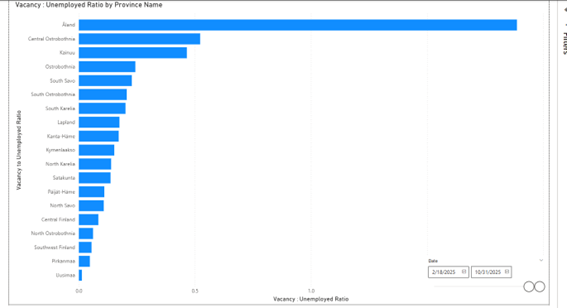

What the dashboard file says about the page in this screenshot:
{"tool":"powerbi","page":{"name":"Page 2","canvas":[1280,720],"ordinal":1},"visuals":[{"type":"clusteredBarChart","fields":{"Category":["KEHA_FACT.Province Name"],"Y":["KEHA_FACT.Vacancy : Unemployed Ratio"]},"box":[9.8,0,1269.9,720.2],"z":0},{"type":"slicer","fields":{"Values":["Date.Date"]},"box":[981.6,604.9,298.2,115.3],"z":1000}]}

Visuals, with their boxes on the page's 1280x720 design canvas (x1, y1, x2, y2). These are canvas units, not pixel positions in the 567x308 screenshot, which may show the page scaled, cropped or inside an application window:
clusteredBarChart - KEHA_FACT.Province Name x KEHA_FACT.Vacancy : Unemployed Ratio: left=10, top=0, right=1280, bottom=720
slicer - Date.Date: left=982, top=605, right=1280, bottom=720
